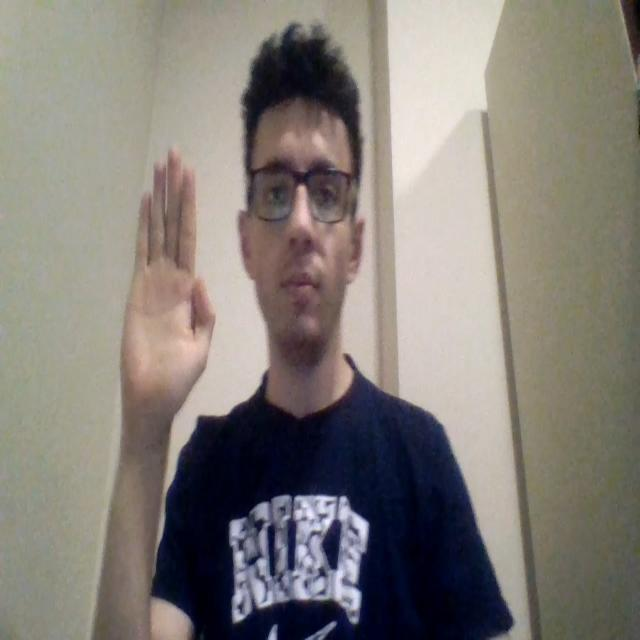hello: (118, 146, 215, 446)
